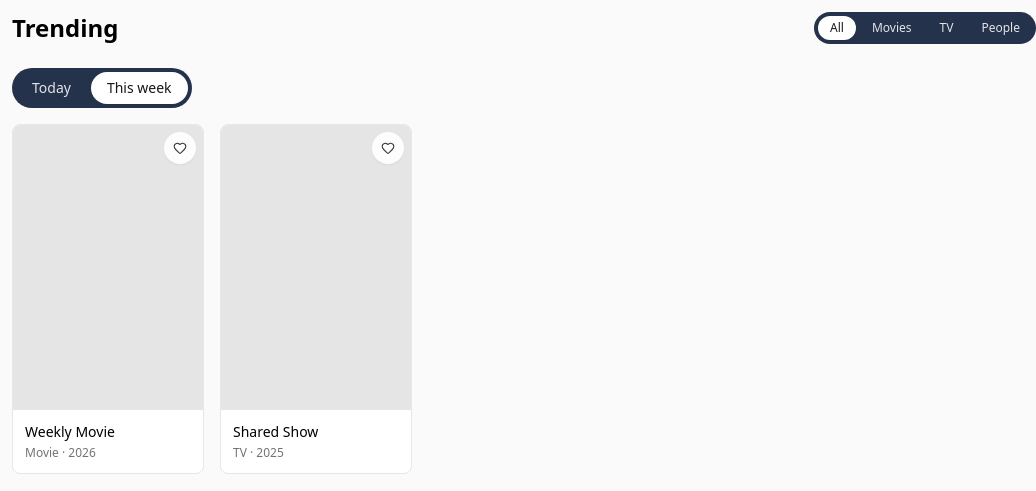
Trending (integration) › filters by media type without re-fetching
Expected: the text "Weekly Movie" is shown, [25,422,115,441]
Click the button "TV".
click(947, 28)  # box [928,16,966,40]
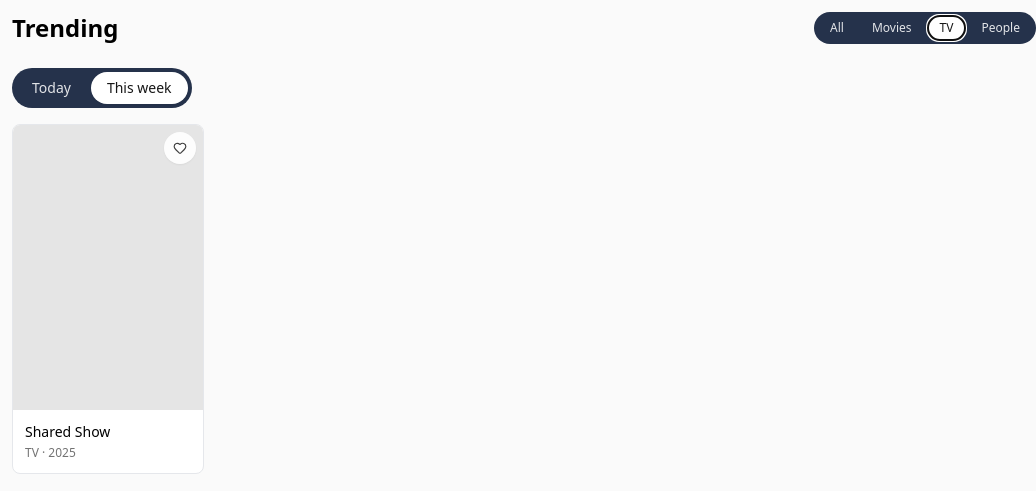
Expected: the text "Shared Show" is shown, [25,422,110,441]
Expected: the link "Weekly Movie" is gone
